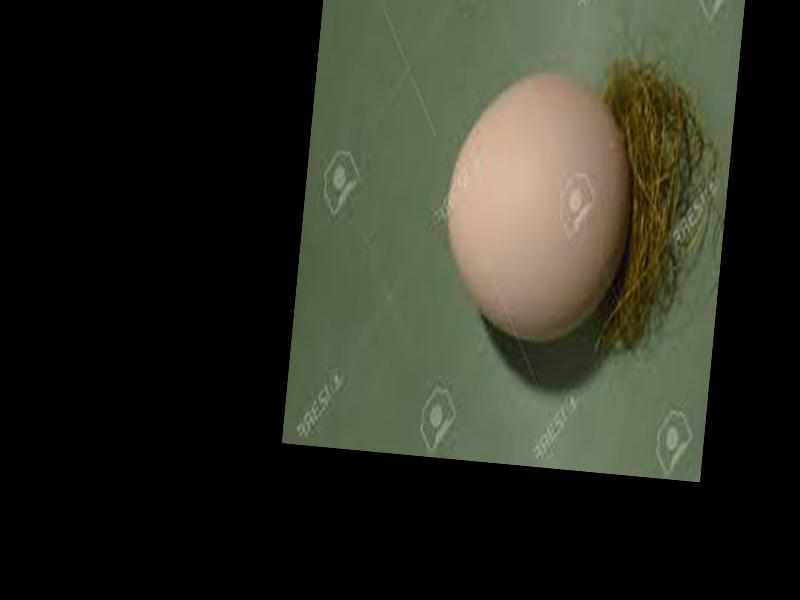Eggs: (434, 66, 639, 348)
